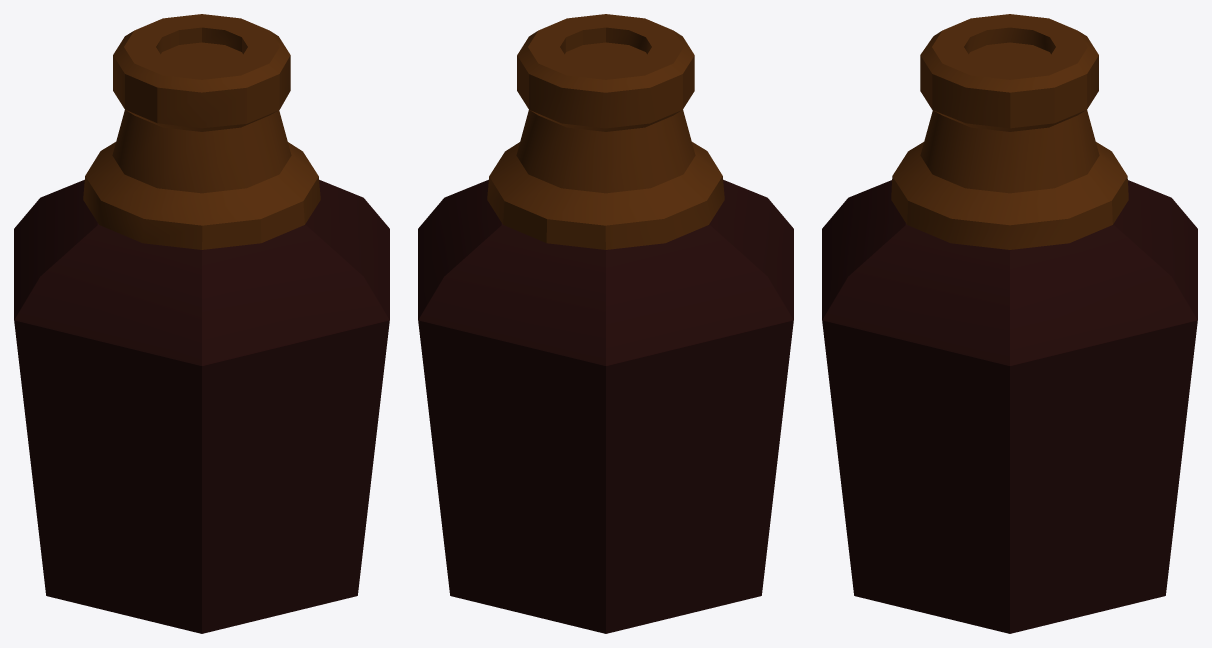
The model's file is encrier seul.fbx.
The picture shows the model from 3 angles, left to right: view 1: azimuth 30°, elevation 25°; view 2: azimuth 150°, elevation 25°; view 3: azimuth 270°, elevation 25°; orthographic projection.
Visible parts, largest first — view 1: Cône001; view 2: Cône001; view 3: Cône001.
Part boxes in pixels (bbox=[...]): Cône001: bbox=[14, 14, 389, 633]; Cône001: bbox=[418, 14, 793, 633]; Cône001: bbox=[822, 14, 1197, 633].
Bounding box in the file's own units: 15.18 × 19.72 × 13.14.
